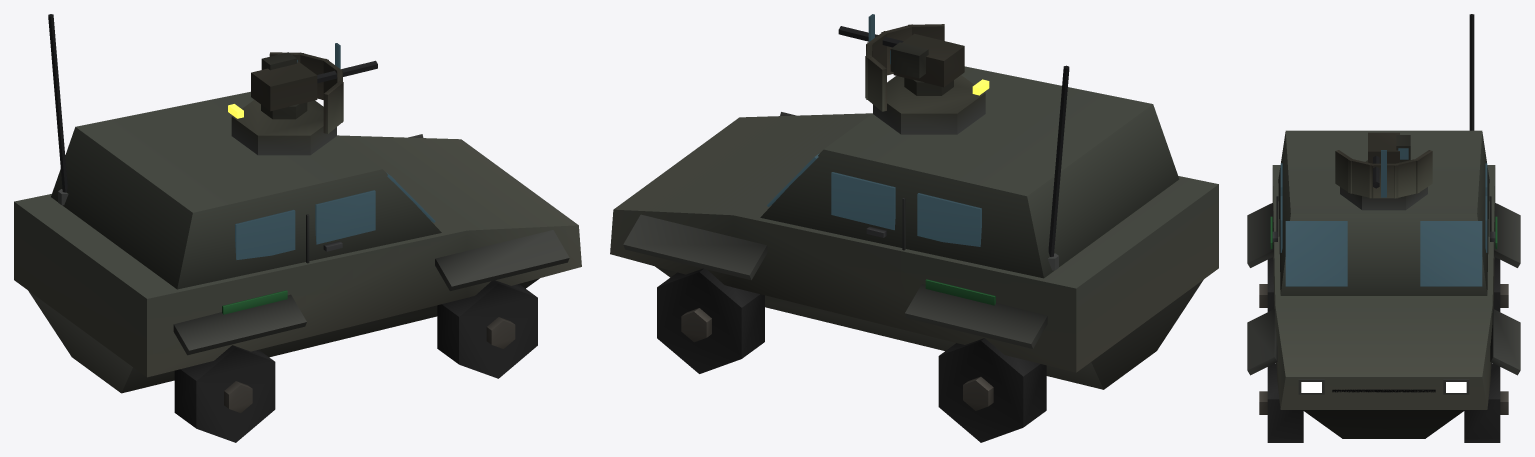
File: u_scout_lod1.glb
3 renders of one model, left to right at view 1: azimuth 30°, elevation 25°; view 2: azimuth 150°, elevation 25°; view 3: azimuth 270°, elevation 25°, orthographic. The views are drawn at different scales.
Parts seen in each view (by area): view 1: Scout_LOD1_Walls, Scout_LOD1_Foundation, Scout_LOD1_turret, Scout_LOD1_Details; view 2: Scout_LOD1_Walls, Scout_LOD1_Foundation, Scout_LOD1_turret, Scout_LOD1_Details; view 3: Scout_LOD1_Walls, Scout_LOD1_Details, Scout_LOD1_turret, Scout_LOD1_Foundation.
Part boxes in pixels (x1,y1,x2,y2): Scout_LOD1_Walls: (14, 91, 581, 393); Scout_LOD1_Foundation: (174, 280, 537, 442); Scout_LOD1_turret: (48, 14, 377, 205); Scout_LOD1_Details: (222, 172, 515, 412); Scout_LOD1_Walls: (610, 66, 1218, 389); Scout_LOD1_Foundation: (657, 268, 1046, 442); Scout_LOD1_turret: (838, 14, 1069, 270); Scout_LOD1_Details: (681, 153, 995, 410); Scout_LOD1_Walls: (1247, 130, 1520, 438); Scout_LOD1_Details: (1259, 163, 1508, 414); Scout_LOD1_turret: (1335, 14, 1474, 210); Scout_LOD1_Foundation: (1267, 257, 1500, 442).
Bounding box in the file's own units: 0.827 × 0.6304 × 0.5284.
